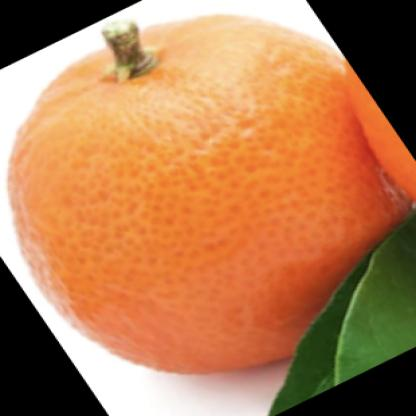fresh: (10, 16, 416, 375)
